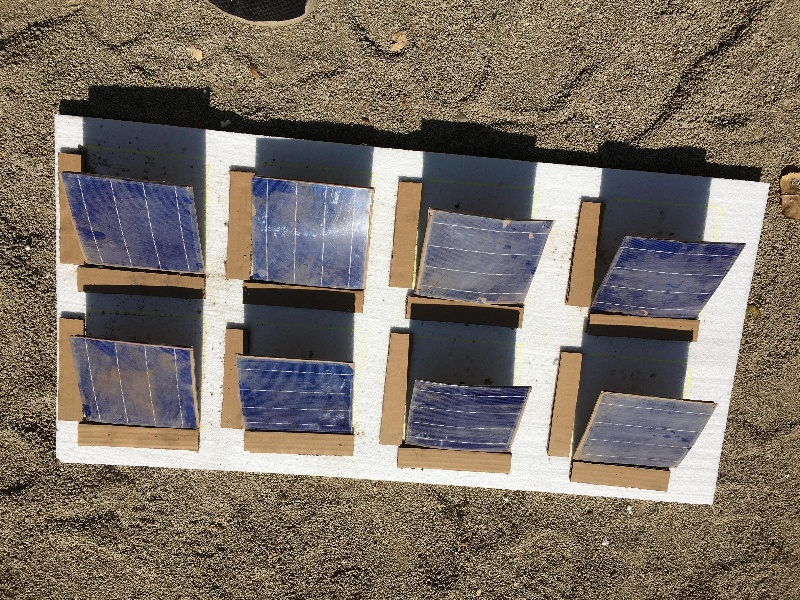dirty: (404, 210, 553, 307), (589, 238, 748, 325), (67, 336, 205, 435), (570, 392, 728, 478)
semi: (55, 171, 217, 282), (250, 176, 370, 289), (234, 355, 354, 441), (400, 379, 534, 452)
